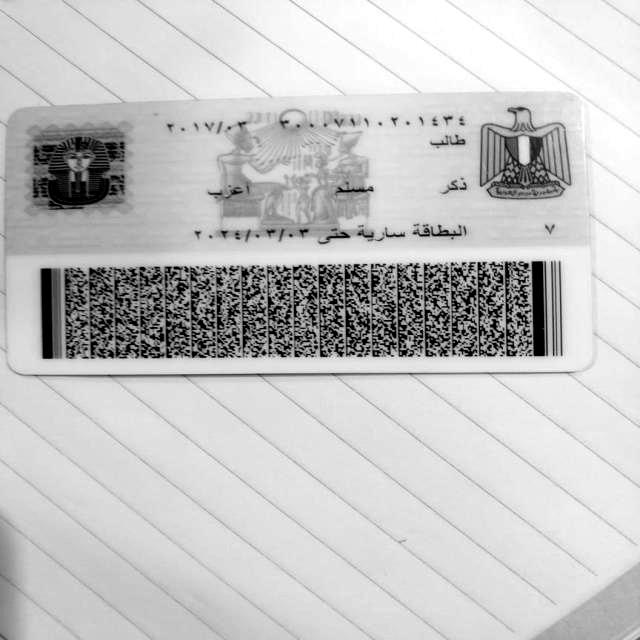id_card: (6, 94, 590, 374)
